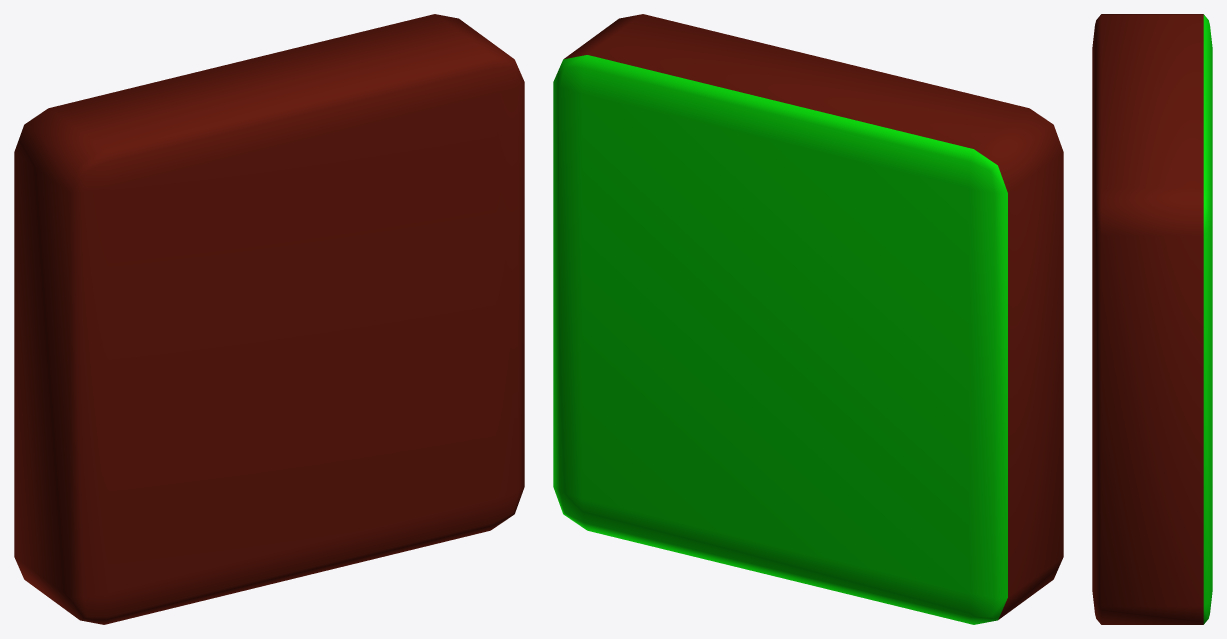
The model's file is RectangleMesh.fbx.
3 renders of one model, left to right at view 1: azimuth 30°, elevation 25°; view 2: azimuth 150°, elevation 25°; view 3: azimuth 270°, elevation 25°, orthographic. The views are drawn at different scales.
Visible parts, largest first — view 1: Cube; view 2: Cube; view 3: Cube.
Part boxes in pixels (box(x1,y1,x2,y2)): Cube: box(14, 14, 524, 624); Cube: box(553, 14, 1063, 624); Cube: box(1092, 14, 1212, 624).
Size of the model in its own units: 8 by 8 by 2.
